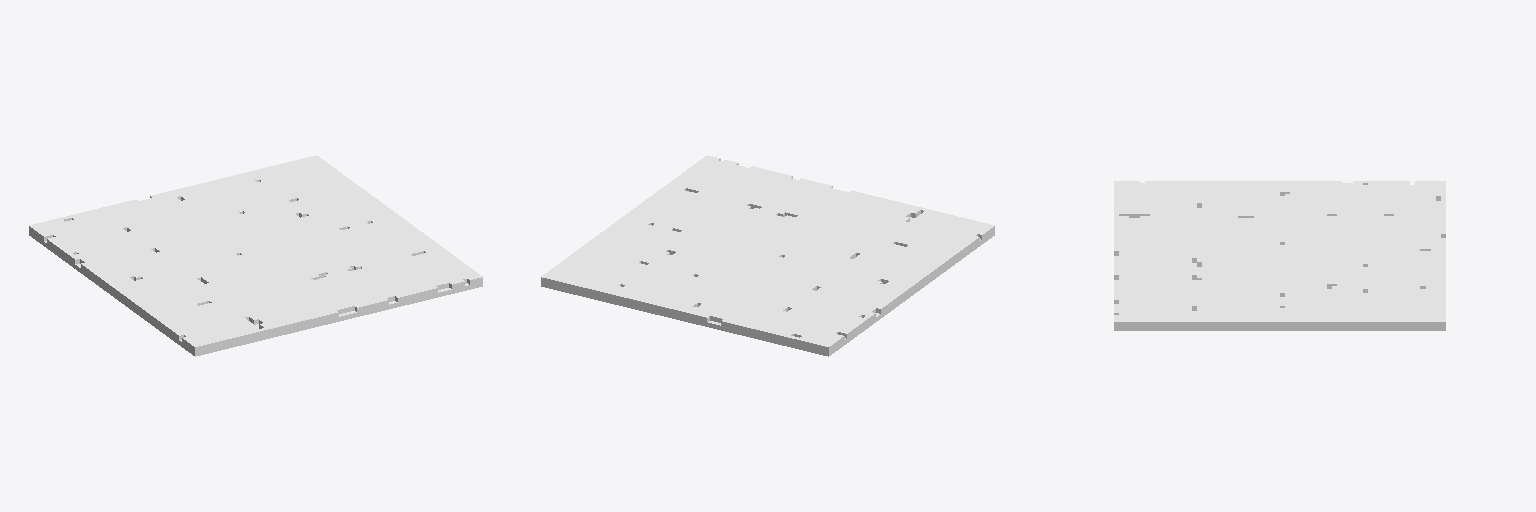
The model's file is Tutorialmap_V2_unfinished-22.obj.
The picture shows the model from 3 angles: view 1: azimuth 30°, elevation 25°; view 2: azimuth 150°, elevation 25°; view 3: azimuth 270°, elevation 25°; orthographic projection.
Visible parts, largest first — view 1: object 1; view 2: object 1; view 3: object 1.
Part boxes in pixels (x1,y1,x2,y2): object 1: (29, 155, 482, 356); object 1: (541, 155, 994, 356); object 1: (1114, 181, 1445, 330).
Size of the model in its own units: 6.4 by 0.2 by 6.4.